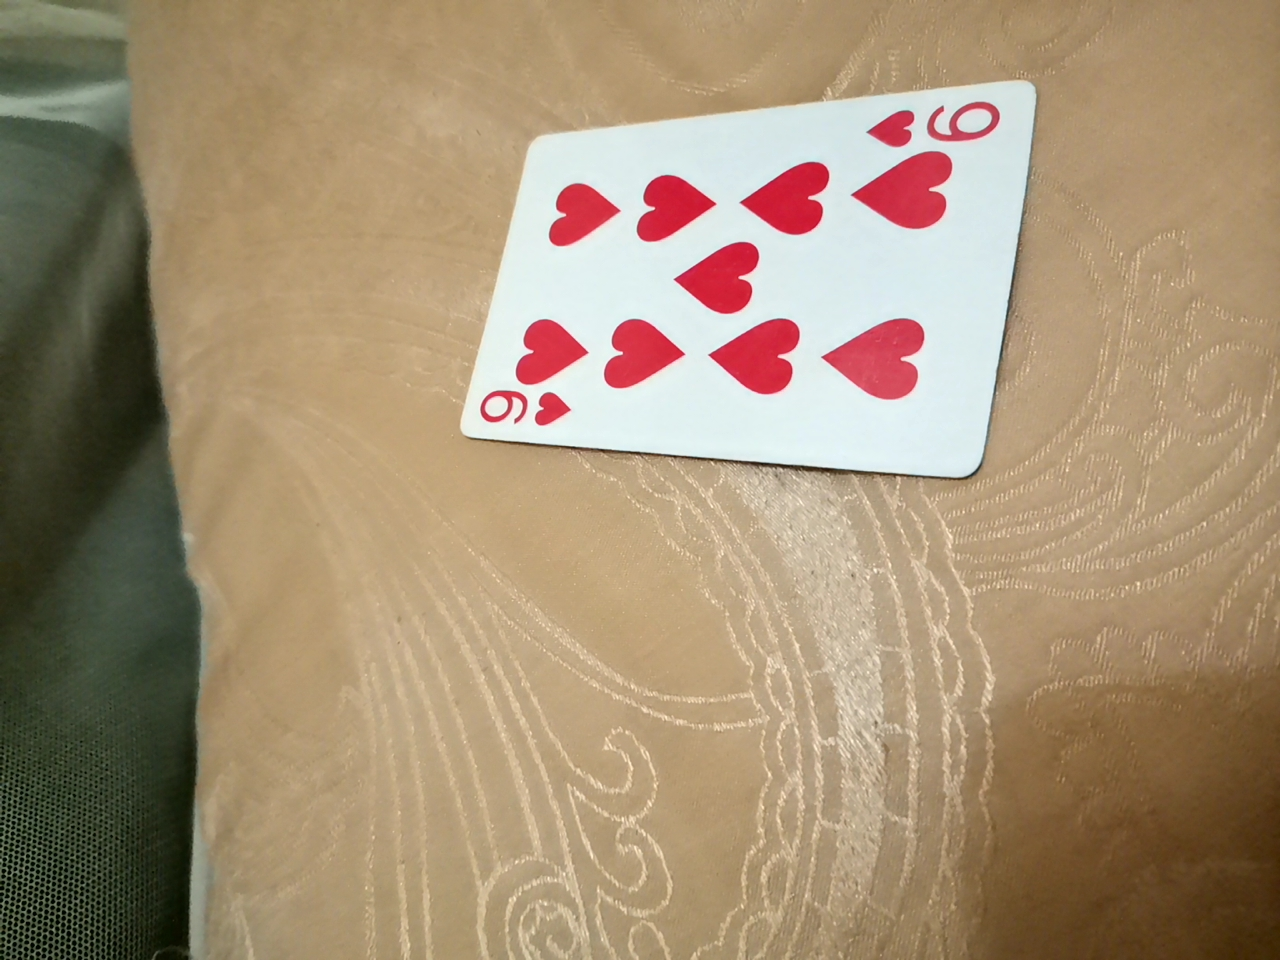hx 9: (453, 91, 1014, 494)
